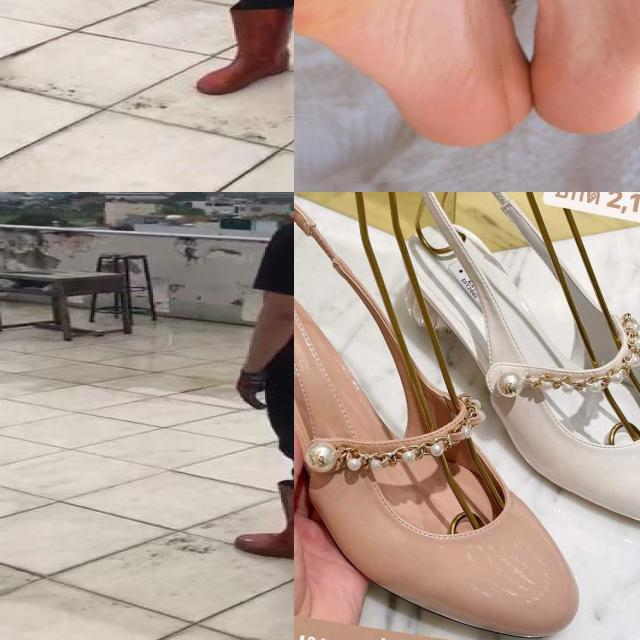Barefoots: (294, 0, 538, 154), (512, 0, 640, 140)
Sandals: (294, 192, 597, 640), (405, 192, 640, 549)
boots: (198, 7, 292, 96), (236, 486, 294, 561)
hand_glove: (234, 371, 268, 409)
person: (215, 192, 294, 564), (164, 0, 294, 123)
